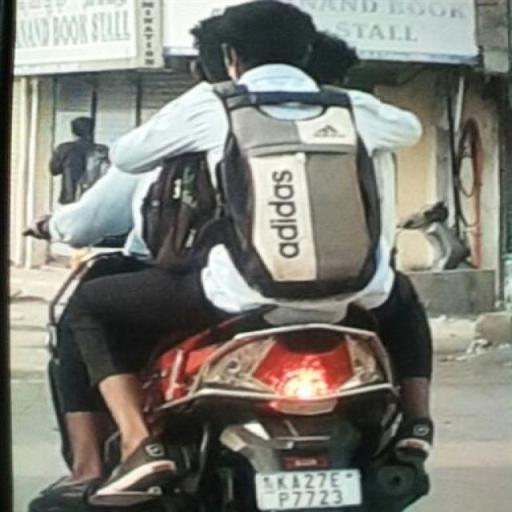tripple riding: (35, 0, 454, 322)
